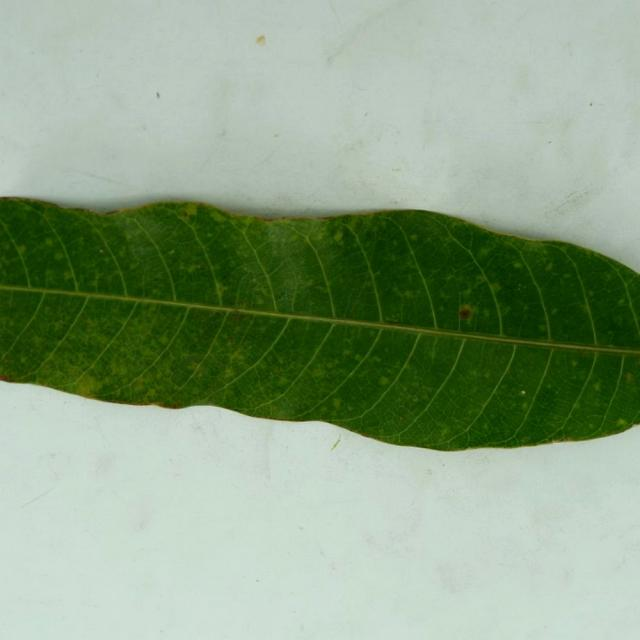Mango: (0, 198, 639, 450)
Powdery_Mildew: (603, 314, 636, 344), (482, 274, 510, 302), (71, 373, 102, 396), (272, 285, 299, 308), (207, 209, 226, 223), (181, 203, 198, 216), (229, 310, 246, 323), (578, 347, 597, 358), (458, 307, 472, 320), (311, 366, 325, 378), (380, 373, 390, 388), (252, 292, 264, 304), (142, 391, 155, 402), (384, 316, 401, 324), (478, 247, 490, 258), (474, 274, 487, 284), (215, 285, 225, 298), (332, 397, 342, 409), (333, 230, 343, 242), (186, 264, 198, 274), (625, 372, 635, 384), (402, 290, 415, 299), (592, 380, 602, 391), (63, 271, 74, 281), (54, 320, 65, 330), (302, 278, 314, 287), (165, 402, 180, 409), (159, 336, 169, 346), (562, 435, 575, 442), (54, 252, 64, 261), (17, 246, 27, 255), (256, 35, 265, 45), (616, 418, 627, 426), (446, 274, 457, 282), (189, 363, 200, 371), (193, 311, 204, 319), (224, 369, 233, 378), (44, 238, 54, 246), (371, 355, 381, 363), (278, 378, 288, 386), (539, 324, 548, 332), (354, 354, 363, 362), (442, 426, 451, 434), (343, 349, 352, 357), (2, 355, 11, 363), (512, 262, 522, 269), (545, 263, 553, 271), (570, 359, 578, 367), (582, 303, 590, 311), (409, 234, 418, 241), (618, 298, 626, 305), (482, 310, 490, 317), (484, 372, 492, 379), (411, 396, 419, 403), (438, 305, 445, 313), (228, 336, 235, 344), (551, 308, 558, 315), (522, 401, 529, 408), (347, 404, 354, 411), (392, 240, 399, 247), (588, 423, 594, 429), (169, 249, 175, 255), (400, 415, 406, 421), (252, 279, 257, 285), (156, 92, 160, 99), (520, 390, 525, 395), (159, 628, 163, 634), (99, 249, 104, 253)
